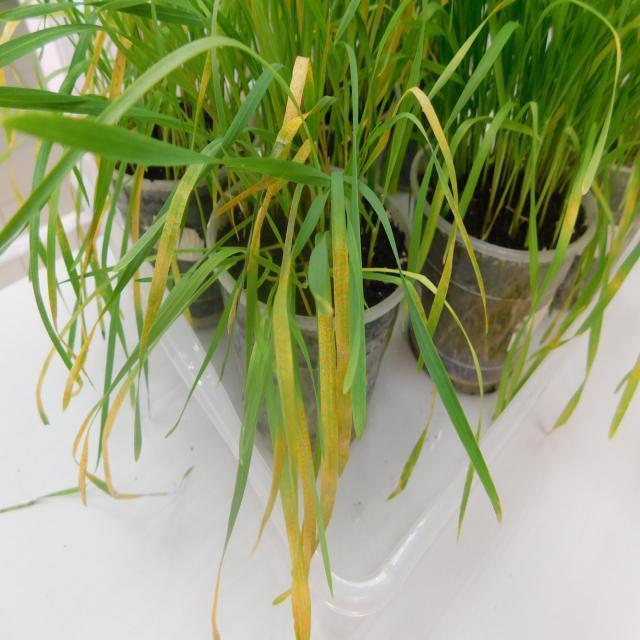Yellow_Rust: (145, 162, 199, 319), (272, 184, 301, 476), (330, 169, 351, 475)
